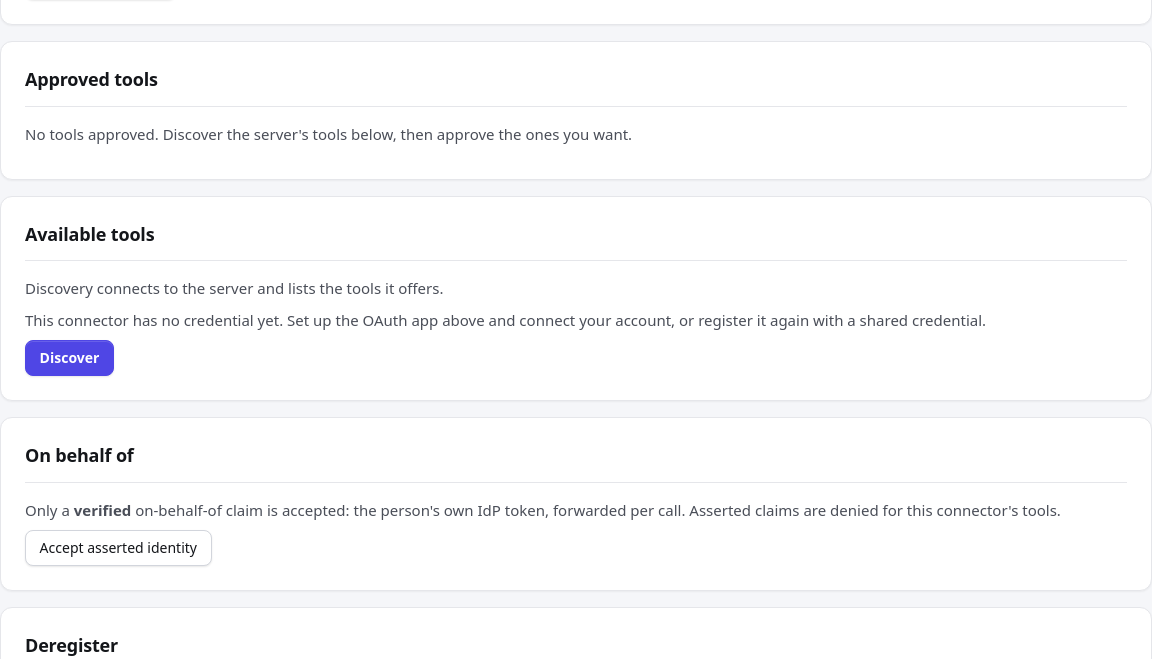
drift › blocks the forms and says why, rather than noting it beside them
(page scrolled)
Click the button "Discover" at {"x": 70, "y": 358}, box [25,340,114,376]
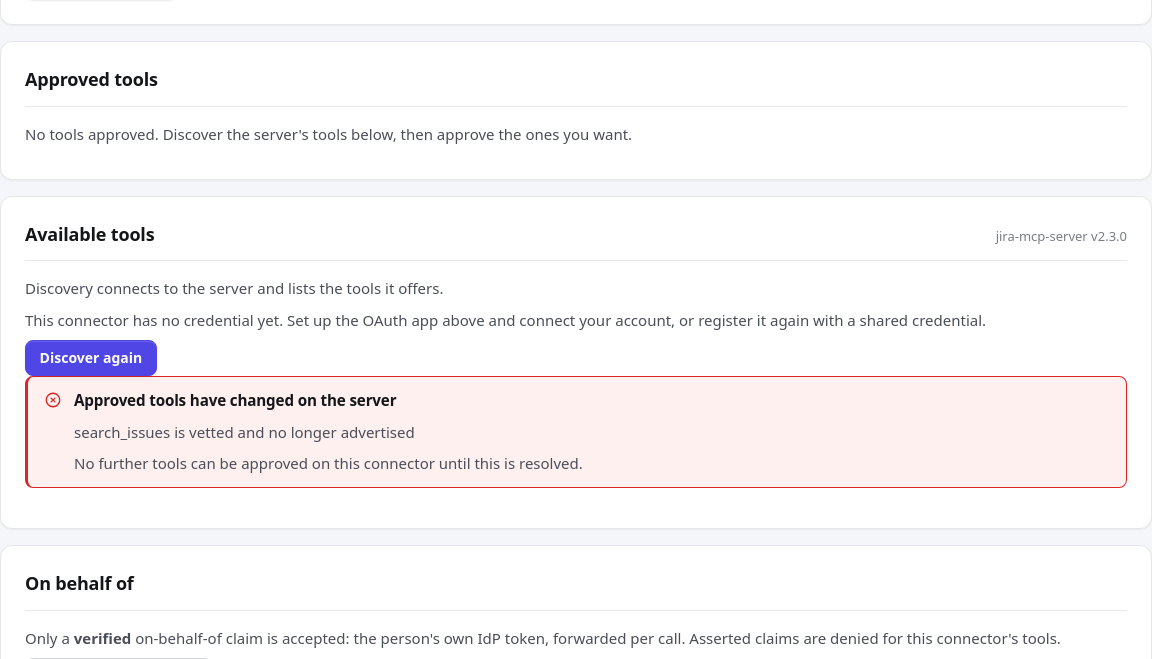
Result: the text "search_issues is vetted and no longer advertised" is shown at [74,422,415,442]
